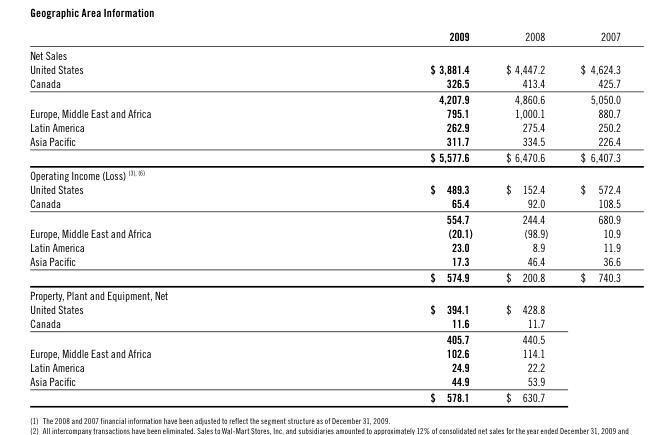table: (29, 29, 620, 403)
table column: (29, 29, 290, 403), (290, 29, 488, 403), (488, 29, 563, 403), (563, 29, 620, 403)
table column header: (29, 29, 620, 45)
table projected row header: (29, 45, 620, 61), (29, 165, 620, 181), (29, 285, 620, 301)
table row: (29, 148, 620, 165), (29, 268, 620, 285), (29, 29, 620, 45), (29, 45, 620, 61), (29, 165, 620, 181), (29, 285, 620, 301), (29, 75, 620, 90), (29, 90, 620, 105), (29, 133, 620, 148), (29, 195, 620, 210), (29, 210, 620, 225), (29, 253, 620, 268), (29, 315, 620, 330), (29, 330, 620, 345), (29, 373, 620, 388), (29, 388, 620, 403), (29, 61, 620, 75), (29, 105, 620, 119), (29, 119, 620, 133), (29, 181, 620, 195), (29, 225, 620, 239), (29, 239, 620, 253), (29, 301, 620, 315), (29, 345, 620, 359), (29, 359, 620, 373)
